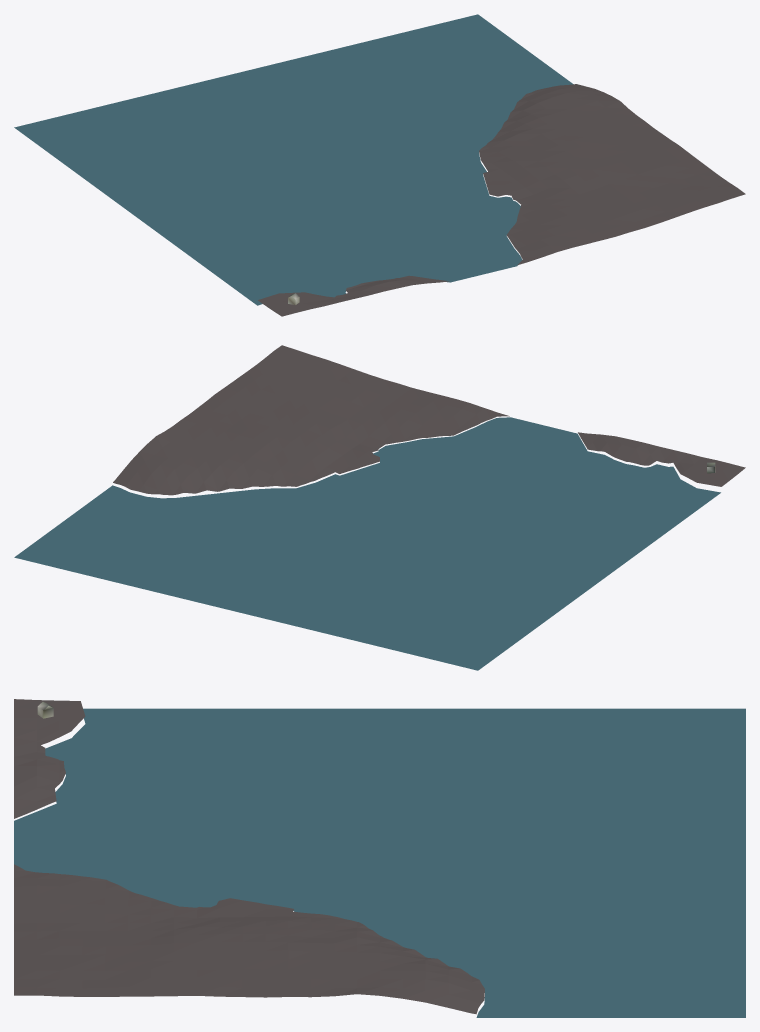
3 renders of one model, top to bottom at view 1: azimuth 30°, elevation 25°; view 2: azimuth 150°, elevation 25°; view 3: azimuth 270°, elevation 25°, orthographic. The views are drawn at different scales.
Visible parts, largest first — view 1: c_p05_p06; view 2: c_p05_p06; view 3: c_p05_p06.
Boxes of the visible parts, left/top/right/bottom form: c_p05_p06: left=14, top=14, right=745, bottom=316; c_p05_p06: left=14, top=345, right=745, bottom=670; c_p05_p06: left=14, top=699, right=745, bottom=1017.
Bounding box in the file's own units: 128 × 4.58 × 128.
